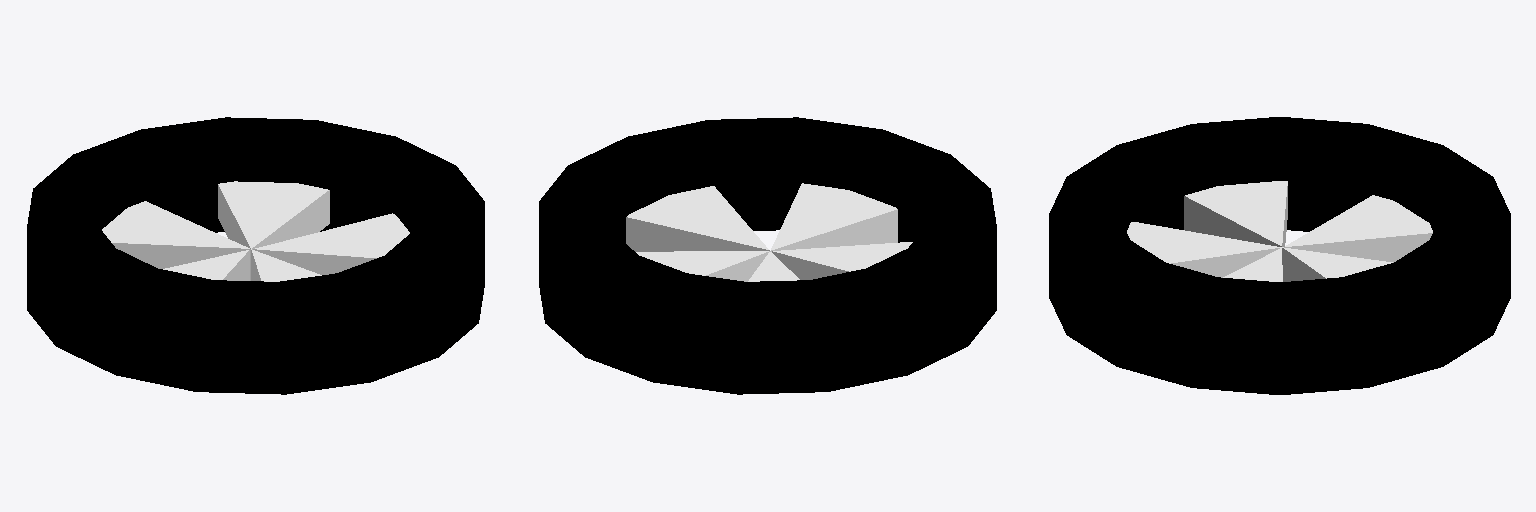
The model's file is Wheel_Mesh.obj.
3 renders of one model, left to right at view 1: azimuth 30°, elevation 25°; view 2: azimuth 150°, elevation 25°; view 3: azimuth 270°, elevation 25°, orthographic.
Parts seen in each view (by area): view 1: Wheel_Mesh; view 2: Wheel_Mesh; view 3: Wheel_Mesh.
Boxes of the visible parts, <box> form: Wheel_Mesh: <box>27,117,484,394</box>; Wheel_Mesh: <box>539,117,996,394</box>; Wheel_Mesh: <box>1049,117,1510,394</box>.
Bounding box in the file's own units: 1 × 0.2 × 1.